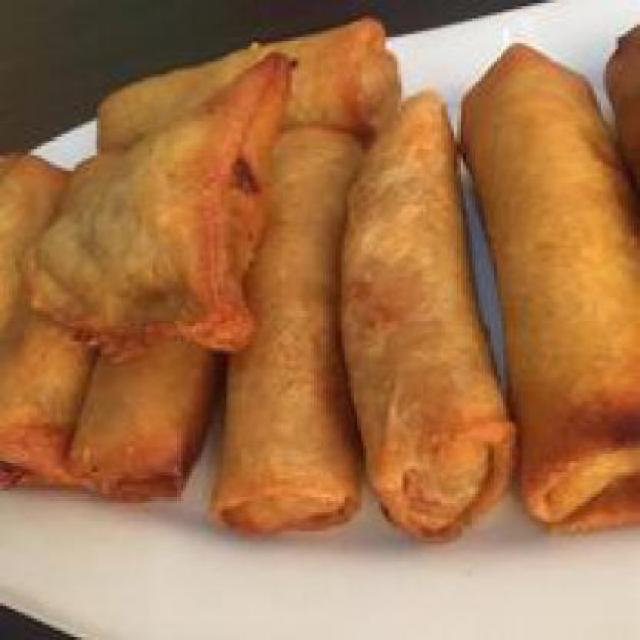samosa: (25, 34, 304, 354)
